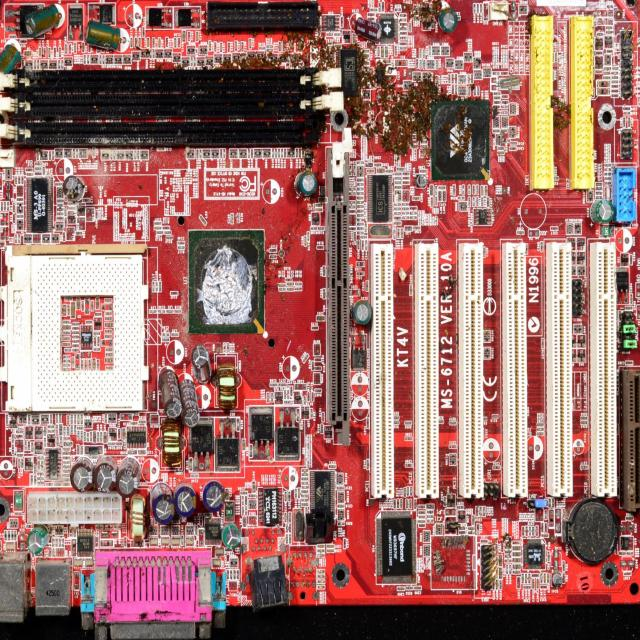Capacitor: (294, 383, 306, 391), (604, 186, 611, 198), (23, 50, 34, 57), (195, 30, 200, 44), (512, 563, 522, 570), (226, 41, 232, 52), (351, 31, 356, 44), (316, 315, 326, 321), (516, 577, 520, 591), (251, 481, 256, 492), (375, 46, 380, 57), (512, 544, 521, 550), (512, 550, 521, 556), (316, 584, 325, 590), (356, 261, 365, 267), (340, 15, 344, 28), (103, 431, 107, 444), (318, 197, 328, 202), (182, 30, 186, 42), (512, 540, 520, 546), (138, 36, 142, 48), (178, 37, 182, 49), (540, 572, 544, 584), (536, 578, 540, 590), (384, 46, 388, 58), (622, 115, 626, 127), (154, 220, 162, 226), (394, 220, 402, 226), (138, 450, 147, 455), (579, 464, 588, 469), (325, 548, 334, 553), (512, 557, 521, 562), (512, 570, 521, 575), (225, 488, 229, 499), (283, 491, 287, 502), (134, 37, 138, 48), (394, 46, 398, 57), (270, 382, 277, 388), (501, 70, 508, 76), (367, 168, 374, 174), (492, 465, 500, 470), (191, 473, 199, 478), (301, 489, 309, 494), (476, 524, 480, 534), (146, 38, 150, 48), (248, 38, 252, 48), (521, 573, 525, 583), (219, 42, 223, 52), (58, 48, 63, 56), (47, 48, 51, 58), (509, 146, 517, 151), (452, 184, 456, 194), (550, 226, 558, 231), (516, 230, 524, 235), (370, 7, 378, 12), (540, 242, 544, 252), (286, 286, 294, 291), (409, 284, 413, 294), (541, 338, 544, 350), (122, 428, 125, 440), (284, 511, 287, 523), (130, 36, 133, 48), (316, 575, 325, 579), (524, 573, 528, 582), (316, 580, 325, 584), (381, 46, 384, 58), (54, 46, 57, 58), (454, 72, 457, 84), (393, 228, 396, 240), (304, 236, 308, 245), (365, 280, 368, 292), (323, 288, 326, 300), (537, 432, 544, 437), (301, 502, 308, 507), (317, 553, 324, 558), (604, 171, 611, 176), (403, 180, 410, 185), (438, 185, 445, 190), (158, 308, 165, 313), (483, 505, 486, 516), (479, 506, 482, 517), (532, 578, 535, 589), (278, 40, 281, 51), (82, 42, 85, 53), (451, 73, 454, 84), (382, 1, 385, 12), (431, 196, 434, 207), (230, 213, 233, 224), (322, 265, 325, 276), (624, 360, 632, 364), (138, 420, 146, 424), (130, 421, 138, 425), (404, 436, 412, 440), (448, 444, 456, 448), (300, 476, 308, 480), (300, 498, 308, 502), (204, 513, 212, 517), (316, 544, 324, 548), (317, 570, 325, 574), (523, 585, 531, 589), (622, 105, 630, 109), (419, 169, 427, 173), (402, 171, 410, 175), (412, 196, 420, 200), (82, 198, 90, 202), (315, 203, 323, 207), (315, 207, 323, 211), (177, 240, 185, 244), (269, 248, 277, 252), (356, 272, 364, 276), (618, 322, 621, 332), (290, 386, 293, 396), (80, 414, 83, 424), (117, 428, 120, 438), (96, 432, 99, 442), (472, 515, 475, 525), (180, 536, 183, 546), (343, 538, 346, 548), (208, 40, 211, 50), (214, 41, 217, 51), (234, 41, 237, 51), (69, 44, 72, 54), (43, 47, 46, 57), (38, 47, 41, 57), (612, 88, 618, 93), (627, 118, 630, 128), (92, 148, 95, 158), (481, 185, 484, 195), (484, 186, 487, 196), (486, 197, 489, 207), (397, 228, 400, 238), (361, 240, 364, 250), (155, 282, 158, 292), (618, 310, 621, 320), (326, 32, 333, 36), (337, 486, 344, 490), (399, 36, 406, 40), (317, 548, 324, 552), (531, 574, 538, 578), (494, 92, 501, 96), (611, 93, 618, 97), (26, 168, 33, 172), (377, 168, 384, 172), (403, 176, 410, 180), (409, 210, 416, 214), (394, 215, 401, 219), (410, 215, 417, 219), (413, 226, 420, 230), (367, 12, 374, 16), (287, 282, 294, 286), (625, 306, 632, 310), (34, 161, 43, 164), (630, 294, 633, 303), (278, 383, 286, 386), (100, 430, 102, 442), (328, 465, 336, 468), (334, 32, 340, 36), (187, 32, 190, 40), (476, 506, 478, 518), (328, 544, 334, 548), (240, 41, 243, 49), (74, 42, 76, 54), (493, 71, 499, 75), (611, 84, 619, 87), (374, 163, 382, 166), (396, 167, 404, 170), (35, 172, 41, 176), (395, 186, 401, 190), (619, 332, 621, 343), (267, 392, 269, 403), (166, 37, 168, 48), (240, 492, 247, 495), (337, 504, 344, 507), (357, 178, 364, 181), (357, 196, 364, 199), (410, 207, 417, 210), (77, 414, 79, 424), (298, 488, 300, 498), (152, 36, 154, 46), (528, 573, 530, 583), (65, 44, 67, 54), (483, 247, 485, 257), (630, 254, 632, 264), (301, 494, 307, 497), (158, 37, 160, 46), (174, 38, 176, 47), (544, 573, 546, 582), (27, 172, 33, 175), (401, 228, 403, 237), (365, 241, 367, 250), (386, 170, 393, 172), (612, 72, 618, 74)
Connector: (588, 242, 618, 497), (327, 148, 351, 440), (501, 242, 528, 498), (458, 241, 484, 496), (546, 243, 572, 494), (371, 244, 394, 498), (415, 244, 438, 496), (530, 14, 554, 183), (573, 14, 593, 187), (625, 368, 640, 509)
IC: (377, 513, 416, 585), (26, 178, 54, 232), (366, 174, 392, 222), (309, 471, 335, 510), (257, 487, 283, 526), (522, 538, 546, 570), (376, 12, 398, 44), (204, 518, 221, 546), (76, 530, 94, 556), (127, 426, 147, 449), (321, 14, 340, 32), (620, 536, 635, 550)
Resistor Network: (298, 148, 302, 159), (307, 231, 311, 242), (402, 214, 409, 220), (178, 244, 185, 250), (314, 357, 322, 362), (314, 366, 322, 371), (457, 505, 465, 510), (509, 141, 517, 146), (434, 185, 438, 195), (164, 230, 172, 235), (166, 235, 174, 240), (427, 46, 431, 55), (280, 148, 284, 157), (198, 149, 202, 158), (12, 214, 16, 223), (492, 413, 499, 418), (627, 551, 634, 556), (20, 39, 27, 44), (540, 585, 547, 590), (612, 66, 619, 71), (604, 180, 611, 185), (402, 201, 409, 206), (295, 286, 302, 291), (73, 414, 76, 425), (547, 573, 550, 584), (61, 59, 64, 70), (468, 196, 471, 207), (473, 3, 476, 14), (580, 416, 588, 420), (107, 441, 115, 445), (128, 450, 136, 454), (300, 472, 308, 476), (8, 34, 16, 38), (399, 46, 407, 50), (418, 60, 422, 68), (611, 76, 619, 80), (316, 245, 324, 249), (278, 288, 286, 292), (270, 392, 273, 402), (408, 22, 411, 32), (438, 420, 443, 426), (320, 423, 323, 433), (70, 425, 73, 435), (116, 442, 122, 447), (245, 496, 248, 506), (99, 54, 102, 64), (435, 60, 438, 70), (58, 60, 61, 70), (494, 100, 500, 105), (275, 148, 278, 158), (250, 148, 253, 158), (476, 184, 479, 194), (468, 185, 471, 195), (435, 196, 438, 206), (481, 196, 484, 206), (237, 212, 240, 222), (356, 239, 359, 249), (301, 468, 308, 472), (467, 530, 474, 534), (619, 551, 626, 555), (399, 41, 406, 45), (258, 46, 265, 50), (266, 49, 273, 53), (611, 80, 618, 84), (494, 96, 501, 100), (502, 100, 509, 104), (492, 128, 499, 132), (497, 146, 504, 150), (496, 150, 503, 154), (34, 166, 41, 170), (604, 167, 611, 171), (394, 180, 401, 184), (357, 182, 364, 186), (457, 196, 464, 200), (357, 204, 364, 208), (402, 207, 409, 211), (402, 211, 409, 215), (310, 226, 317, 230), (75, 231, 82, 235), (399, 13, 406, 17), (174, 309, 181, 313), (311, 361, 314, 370), (307, 392, 310, 401), (310, 408, 313, 417), (321, 412, 324, 421), (70, 415, 73, 424), (241, 496, 244, 505), (241, 506, 244, 515), (245, 507, 248, 516), (195, 526, 198, 535), (419, 48, 422, 57), (422, 49, 425, 58), (149, 49, 152, 58), (190, 56, 193, 65), (193, 57, 196, 66), (222, 149, 225, 158), (109, 150, 112, 159), (15, 175, 18, 184), (21, 175, 24, 184), (378, 2, 381, 11), (472, 197, 475, 206), (476, 197, 479, 206), (479, 4, 482, 13), (353, 232, 356, 241), (314, 389, 322, 392), (55, 415, 58, 423), (49, 415, 52, 423), (581, 420, 587, 424), (66, 427, 69, 435), (102, 56, 105, 64), (500, 105, 508, 108), (502, 110, 508, 114), (623, 110, 629, 114), (501, 128, 507, 132), (134, 150, 137, 158), (42, 166, 45, 174), (395, 172, 401, 176), (357, 192, 363, 196), (394, 206, 400, 210), (394, 210, 400, 214), (270, 254, 276, 258), (286, 277, 292, 281), (67, 415, 69, 426), (248, 148, 250, 159), (449, 421, 456, 424), (537, 423, 544, 426), (399, 32, 406, 35), (338, 522, 345, 525), (266, 45, 273, 48), (502, 95, 509, 98), (604, 177, 611, 180), (357, 187, 364, 190), (357, 201, 364, 204), (394, 202, 401, 205), (157, 231, 164, 234), (394, 8, 401, 11), (394, 420, 398, 425), (77, 431, 79, 441), (423, 59, 425, 69), (448, 74, 450, 84), (452, 84, 454, 94), (456, 85, 458, 95), (272, 148, 274, 158), (284, 148, 286, 158), (113, 150, 115, 160), (137, 150, 139, 160), (18, 173, 20, 183), (462, 184, 464, 194), (472, 185, 474, 195), (358, 213, 363, 217), (476, 3, 478, 13), (365, 223, 367, 233), (18, 233, 20, 243), (400, 18, 406, 21), (284, 390, 286, 399), (312, 392, 314, 401), (105, 414, 107, 423), (80, 431, 82, 440), (152, 49, 154, 58), (84, 55, 86, 64), (416, 59, 418, 68), (220, 148, 222, 157), (296, 148, 298, 157), (604, 163, 610, 166), (395, 177, 401, 180), (318, 227, 324, 230), (357, 231, 363, 234), (394, 415, 398, 419), (74, 426, 76, 434), (63, 426, 65, 434), (81, 446, 83, 454), (301, 482, 309, 484), (295, 489, 297, 497), (200, 517, 202, 525), (196, 149, 198, 157), (15, 234, 17, 242), (400, 22, 405, 25), (358, 218, 363, 221), (358, 222, 363, 225), (287, 390, 289, 397), (537, 428, 544, 430), (301, 486, 308, 488), (468, 528, 475, 530), (278, 149, 280, 156), (357, 227, 364, 229), (59, 416, 61, 422), (405, 422, 411, 424), (361, 236, 367, 238), (296, 282, 302, 284), (358, 210, 363, 212)
Transistor: (248, 406, 274, 461), (189, 418, 215, 472), (214, 418, 240, 470), (275, 406, 300, 460), (173, 6, 201, 30), (67, 4, 84, 42), (88, 3, 115, 25), (146, 6, 173, 28), (621, 253, 629, 266)
